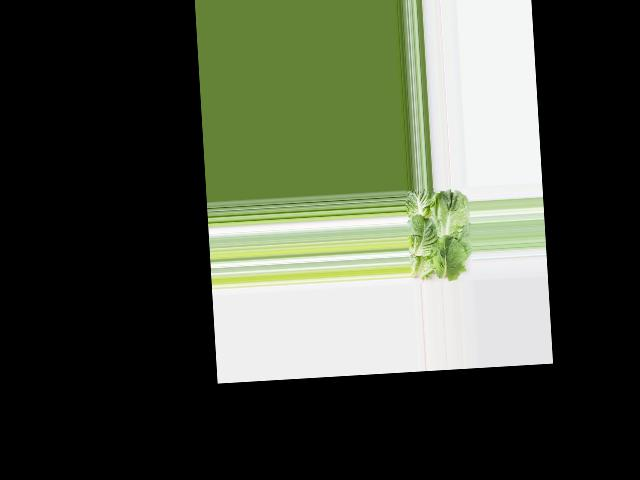lettuce: (404, 188, 471, 281)
